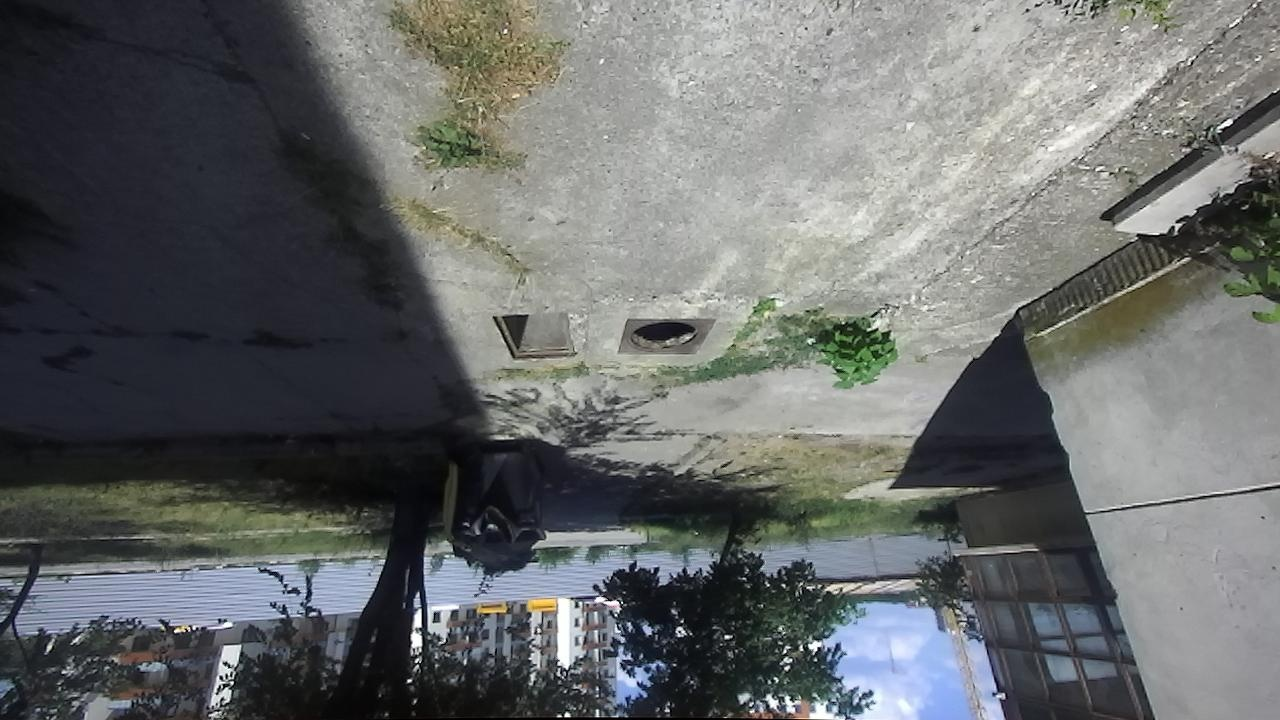drain: (490, 314, 579, 362), (627, 321, 700, 355)
